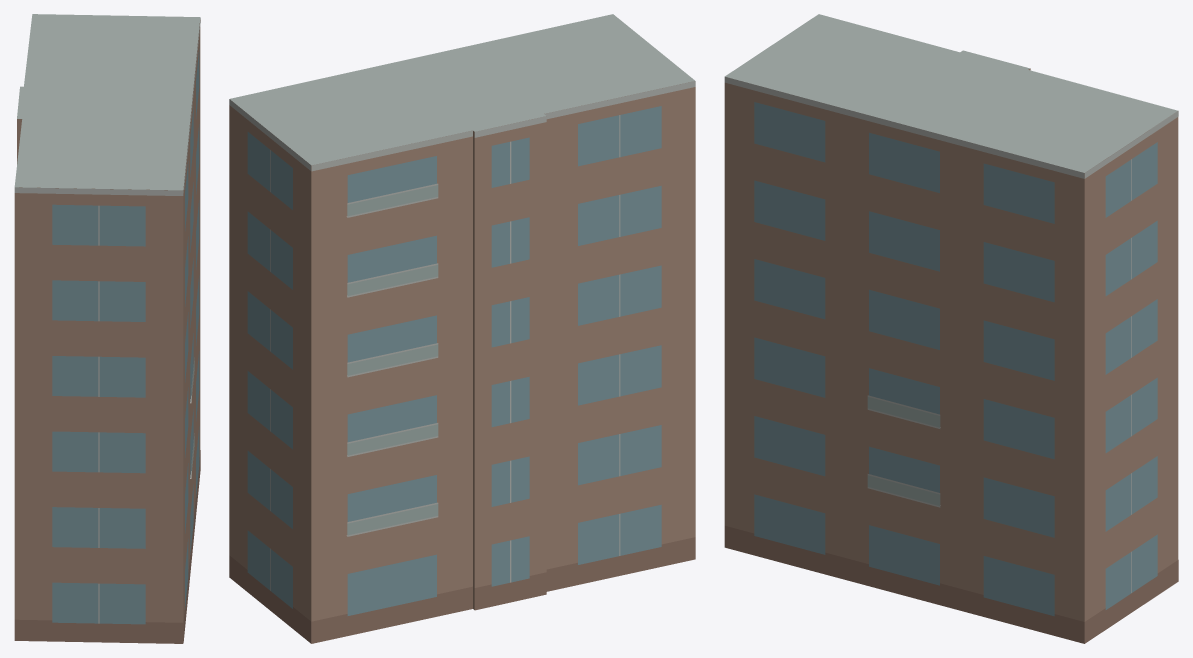
The model's file is survey-upis-32783685.glb.
3 renders of one model, left to right at view 1: azimuth 30°, elevation 25°; view 2: azimuth 150°, elevation 25°; view 3: azimuth 270°, elevation 25°, orthographic. The views are drawn at different scales.
Visible parts, largest first — view 1: survey-upis-32783685.tmp; view 2: survey-upis-32783685.tmp; view 3: survey-upis-32783685.tmp.
Boxes of the visible parts, box(x1,y1,x2,y2) form: survey-upis-32783685.tmp: box(14, 14, 200, 643); survey-upis-32783685.tmp: box(229, 14, 695, 643); survey-upis-32783685.tmp: box(724, 14, 1178, 643).
Size of the model in its own units: 13.95 by 19.25 by 16.82.
